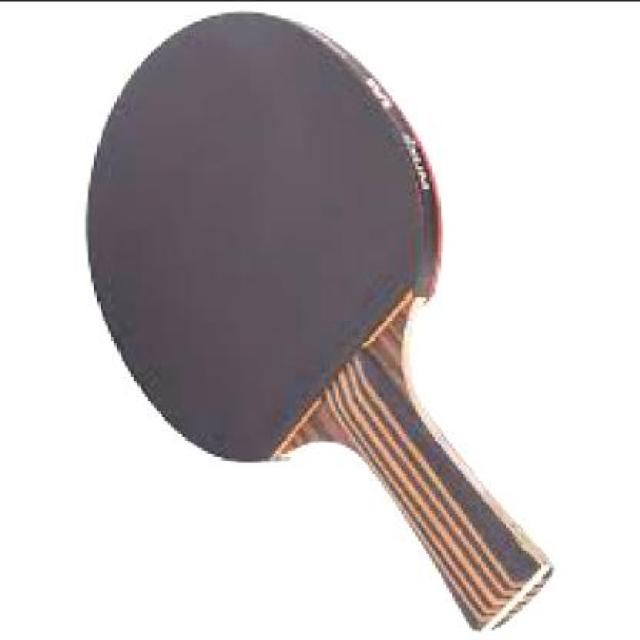table_tennis_racket: (81, 8, 447, 462)
